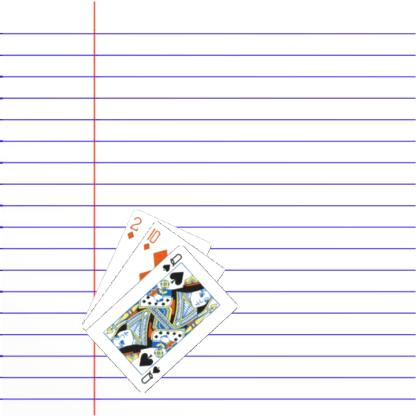10D: (140, 226, 162, 252)
2D: (124, 214, 143, 240)
QS: (159, 250, 184, 273), (138, 363, 162, 385)
